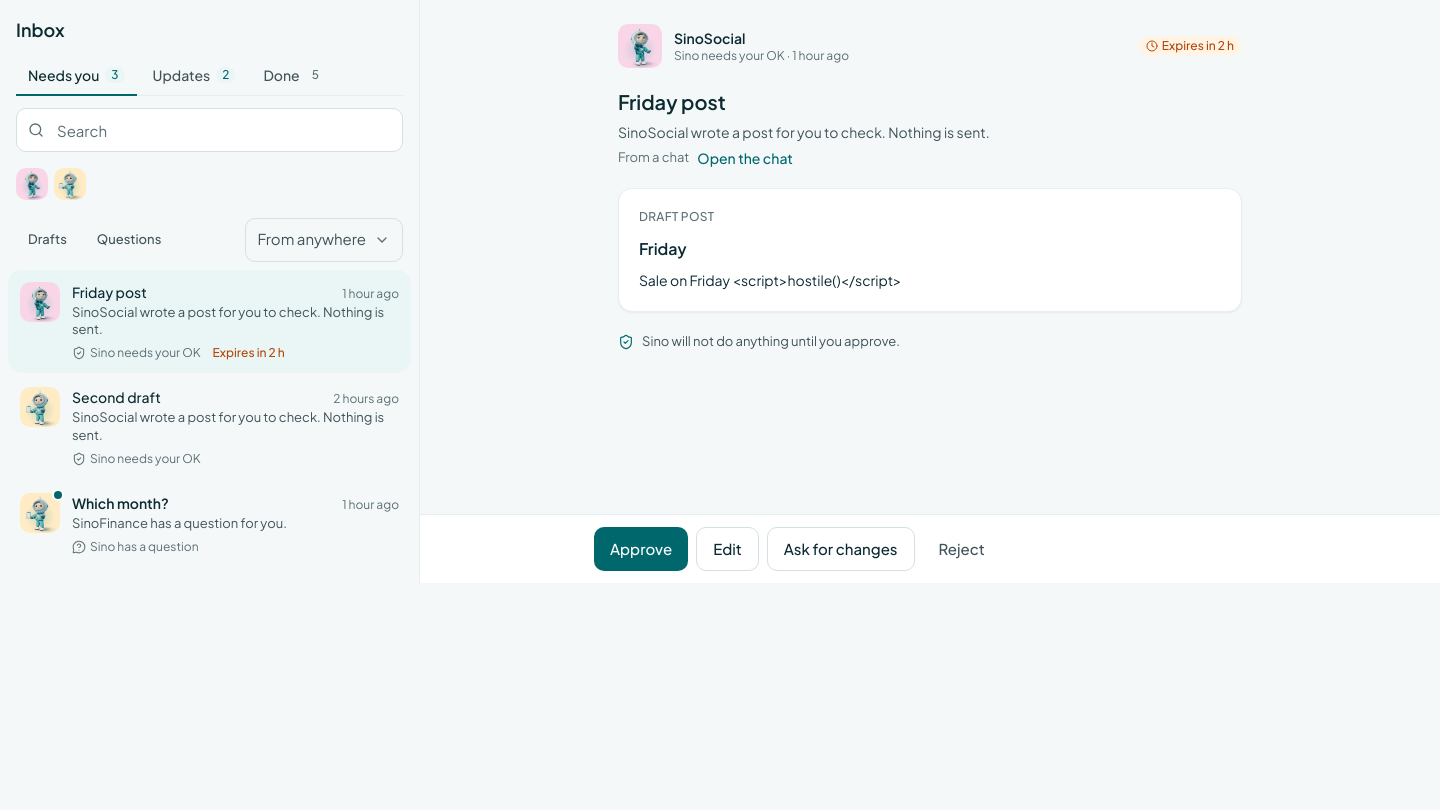
Test case: deciding a draft › shows who decided first and refetches when someone else got there first
Click the button "Approve". click: [641, 549]
box: top-left (594, 527), bottom-right (688, 571)
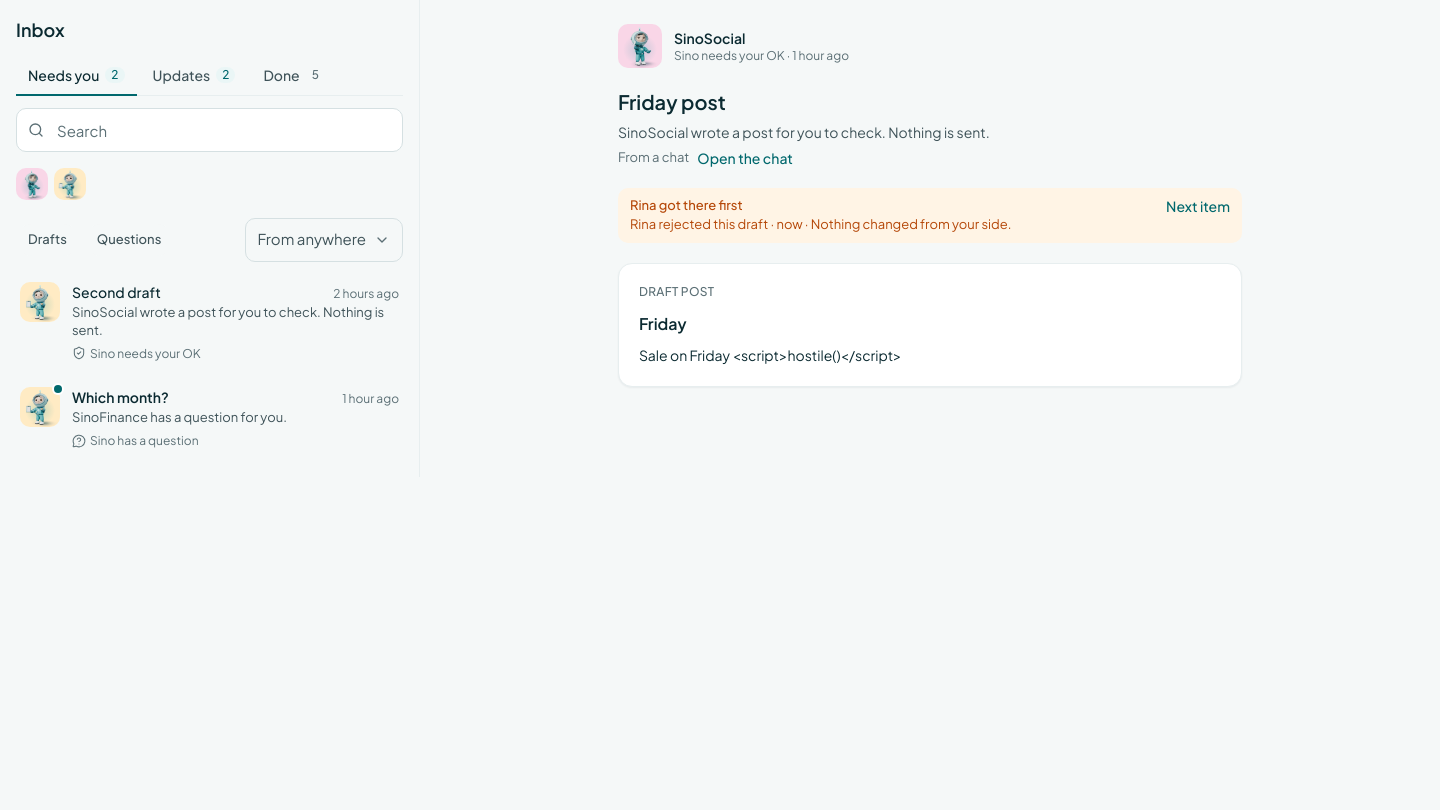
Result: the text "Rina got there first" is shown at top-left (630, 196), bottom-right (743, 212)
Result: the text "Rina rejected this draft" is shown at top-left (630, 216), bottom-right (768, 232)
Result: the button "approve" is gone
